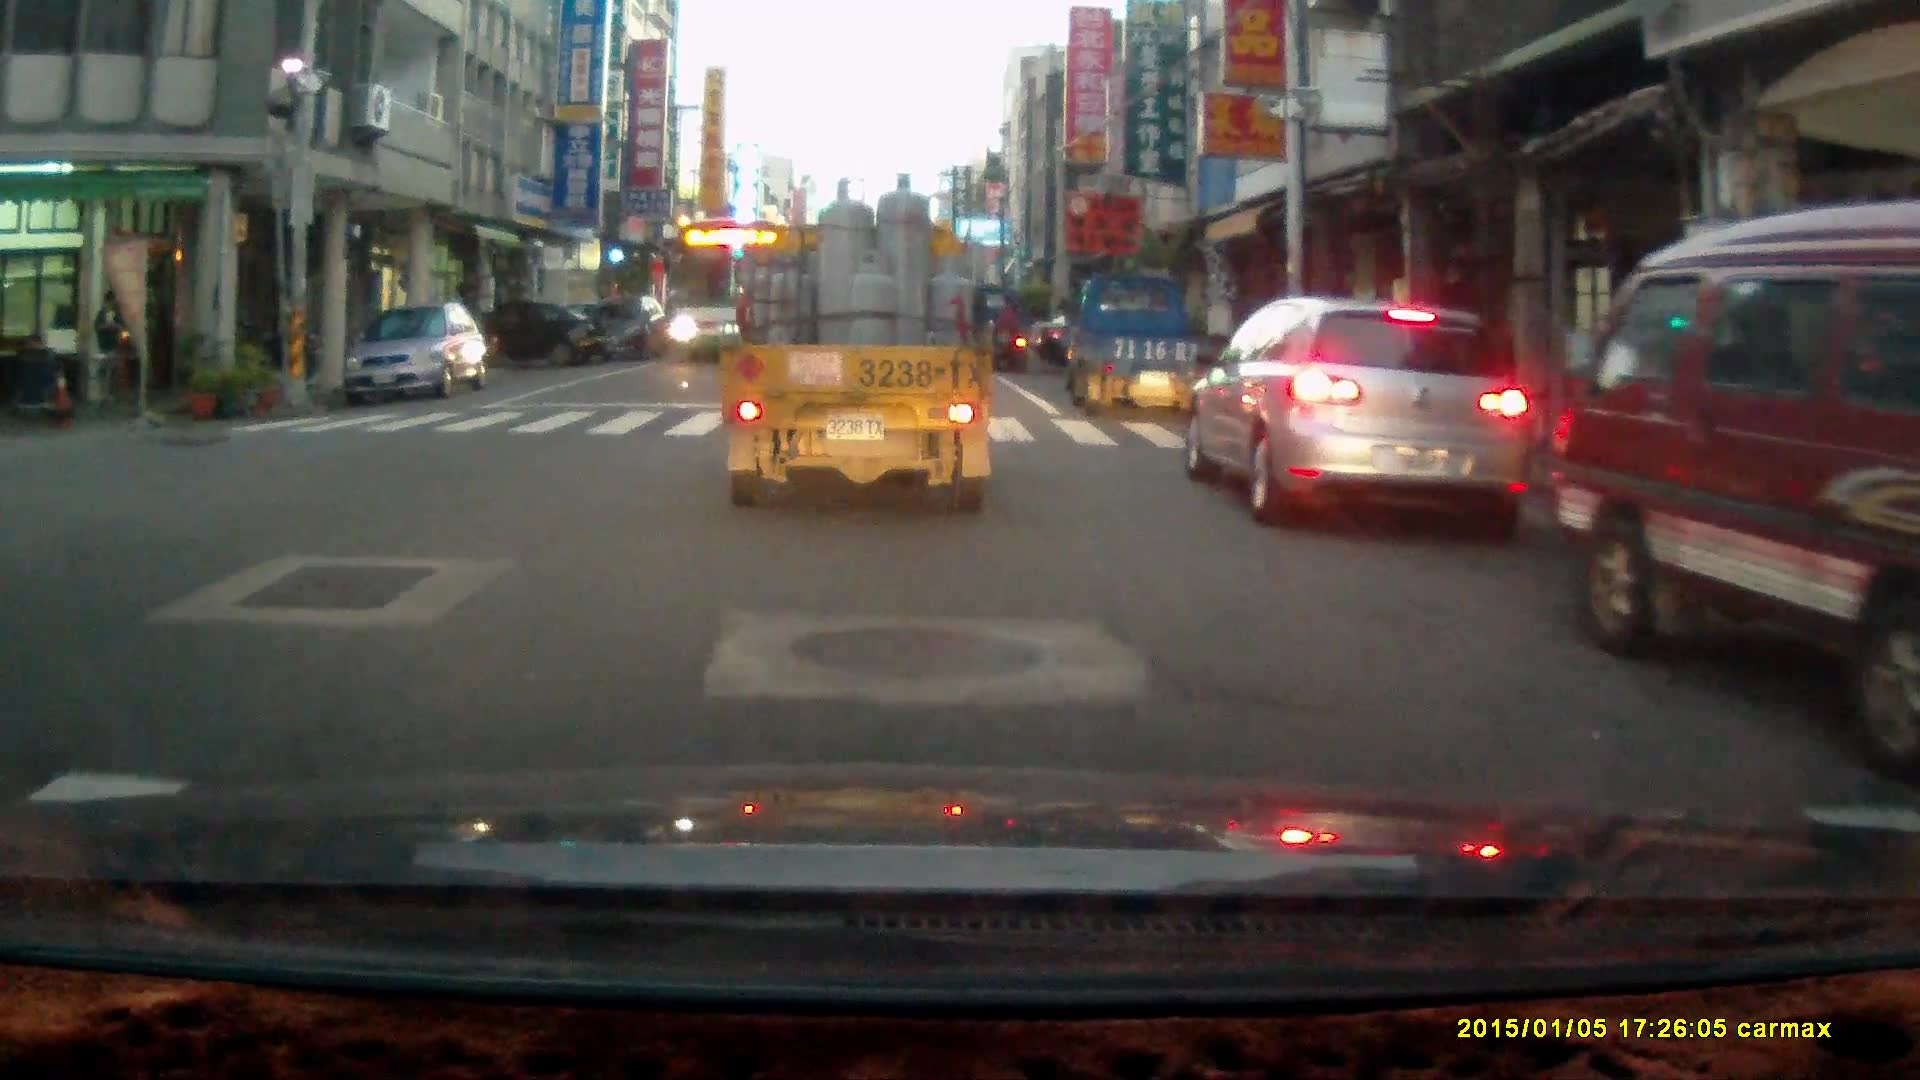pedestrian: (90, 284, 125, 412), (994, 290, 1019, 365)
vehicle: (1541, 202, 1920, 730), (724, 171, 993, 516), (1184, 292, 1534, 544), (1065, 271, 1214, 417), (665, 213, 795, 367), (340, 302, 489, 406), (426, 297, 606, 366), (585, 295, 675, 365)
